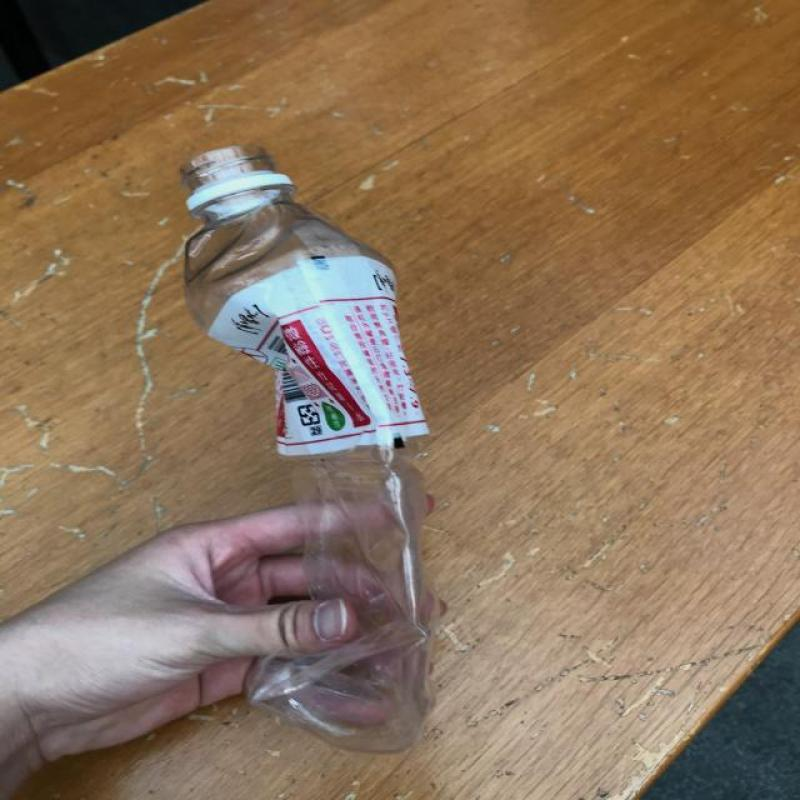botella: (179, 146, 436, 754)
